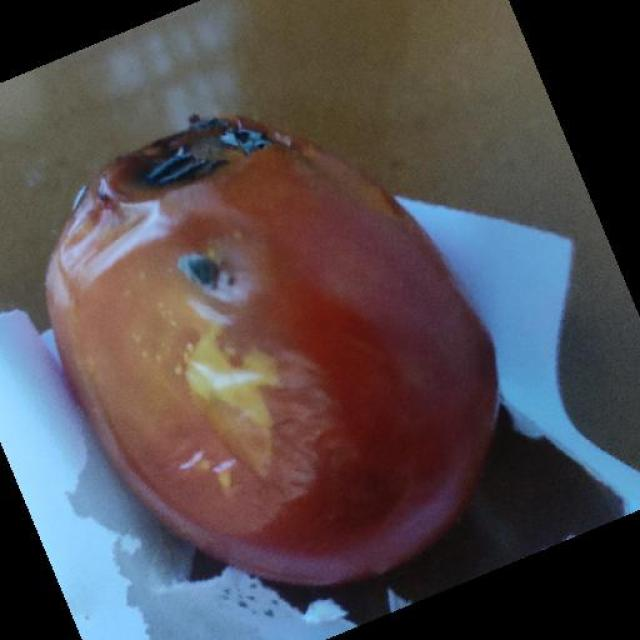Stale_tomato: (0, 112, 500, 602)
